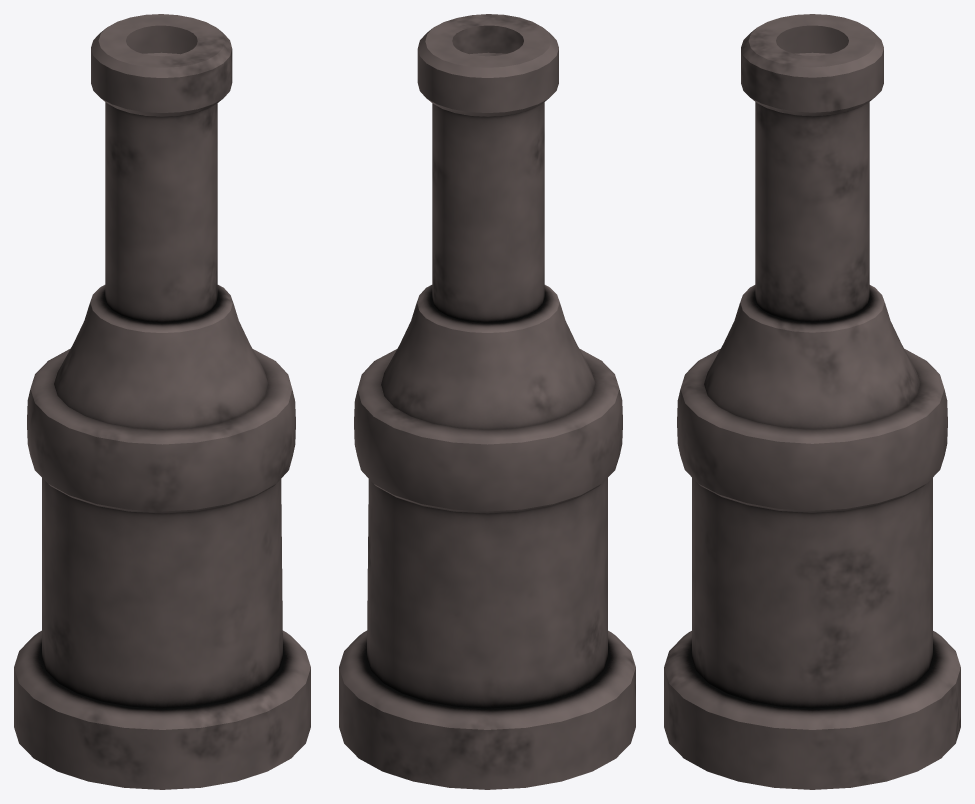
Rendered from pipeInterior.fbx.
3 renders of one model, left to right at view 1: azimuth 30°, elevation 25°; view 2: azimuth 150°, elevation 25°; view 3: azimuth 270°, elevation 25°, orthographic.
Visible parts, largest first — view 1: PipeStructure; view 2: PipeStructure; view 3: PipeStructure.
Boxes of the visible parts, x1=… form: PipeStructure: x1=14, y1=14, x2=310, y2=789; PipeStructure: x1=339, y1=14, x2=635, y2=789; PipeStructure: x1=664, y1=14, x2=960, y2=789.
Bounding box in the file's own units: 353 × 900 × 353.
1 material, 1 textured.
